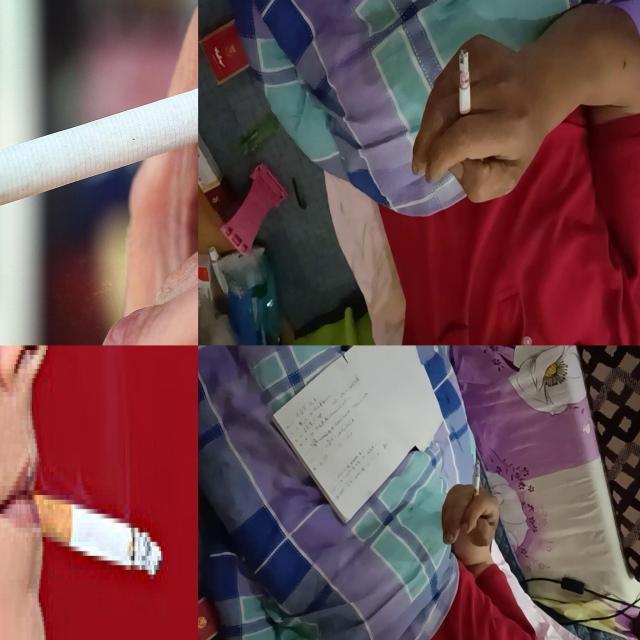smoking: (0, 48, 198, 234), (20, 478, 163, 580), (458, 49, 472, 132), (472, 460, 480, 506)
